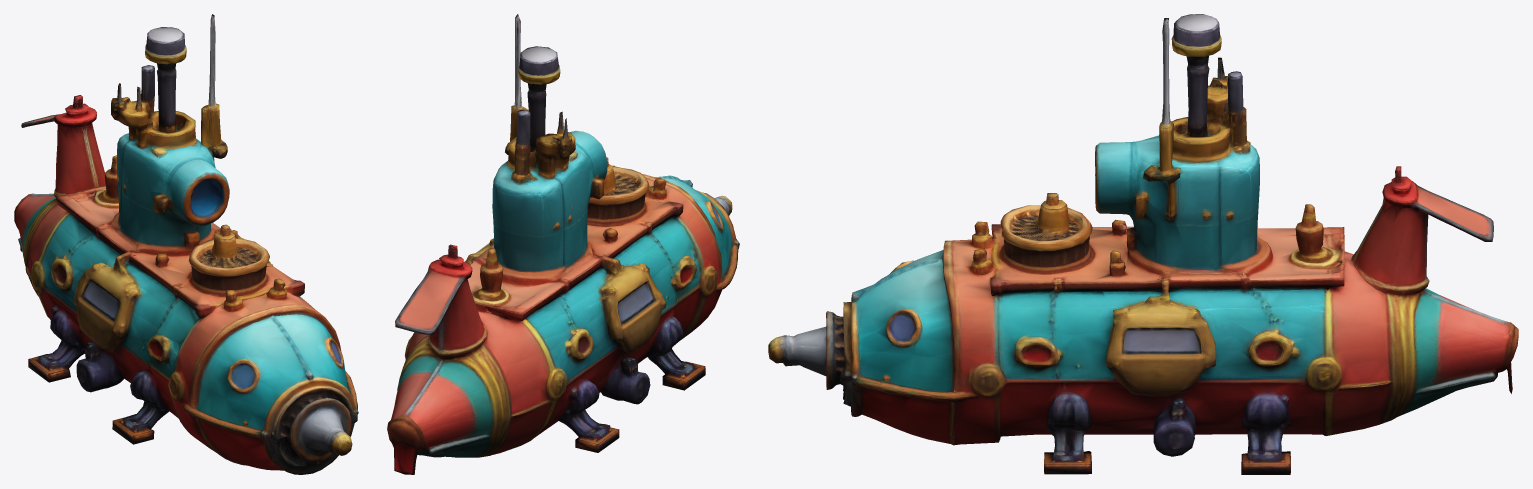
File: submarine.glb
The picture shows the model from 3 angles, left to right: view 1: azimuth 30°, elevation 25°; view 2: azimuth 150°, elevation 25°; view 3: azimuth 270°, elevation 25°; orthographic projection. The views are drawn at different scales.
Bounding box in the file's own units: 0.3483 × 0.6475 × 1.
1 material, 1 textured.
